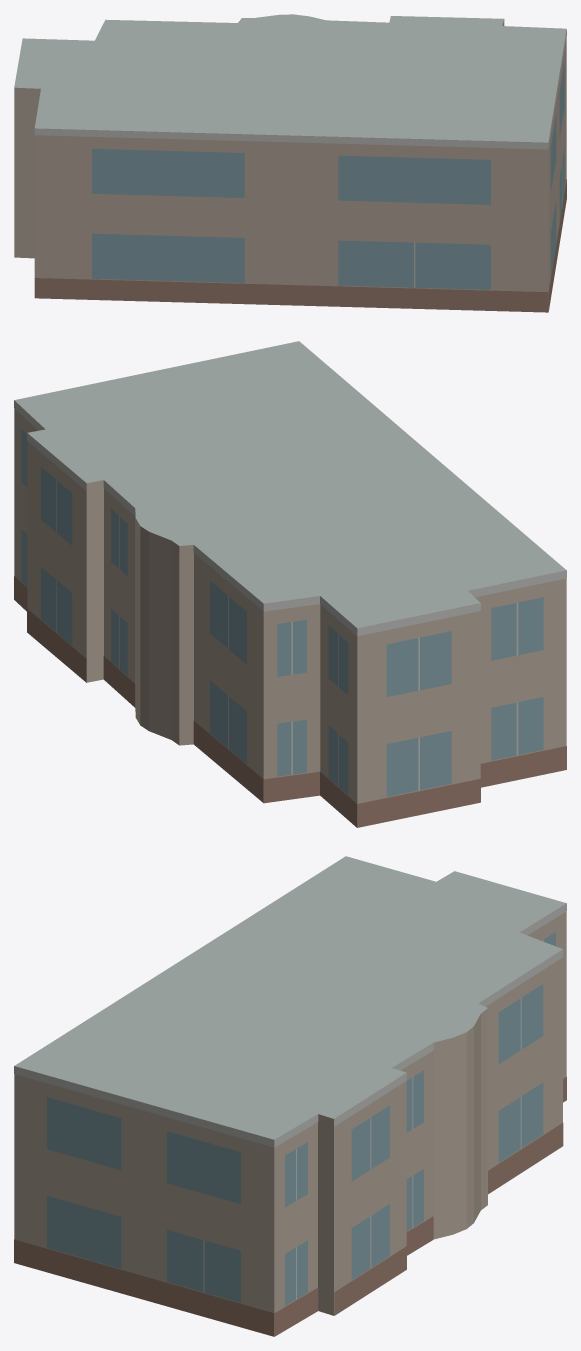
Rendered from survey-upis-32702925.glb.
3 renders of one model, top to bottom at view 1: azimuth 30°, elevation 25°; view 2: azimuth 150°, elevation 25°; view 3: azimuth 270°, elevation 25°, orthographic. The views are drawn at different scales.
Parts seen in each view (by area): view 1: survey-upis-32702925.tmp; view 2: survey-upis-32702925.tmp; view 3: survey-upis-32702925.tmp.
Part boxes in pixels (x1,y1,x2,y2): survey-upis-32702925.tmp: (14, 14, 566, 312); survey-upis-32702925.tmp: (14, 341, 566, 827); survey-upis-32702925.tmp: (14, 856, 566, 1336).
Bounding box in the file's own units: 18.85 × 6.1 × 15.52.
